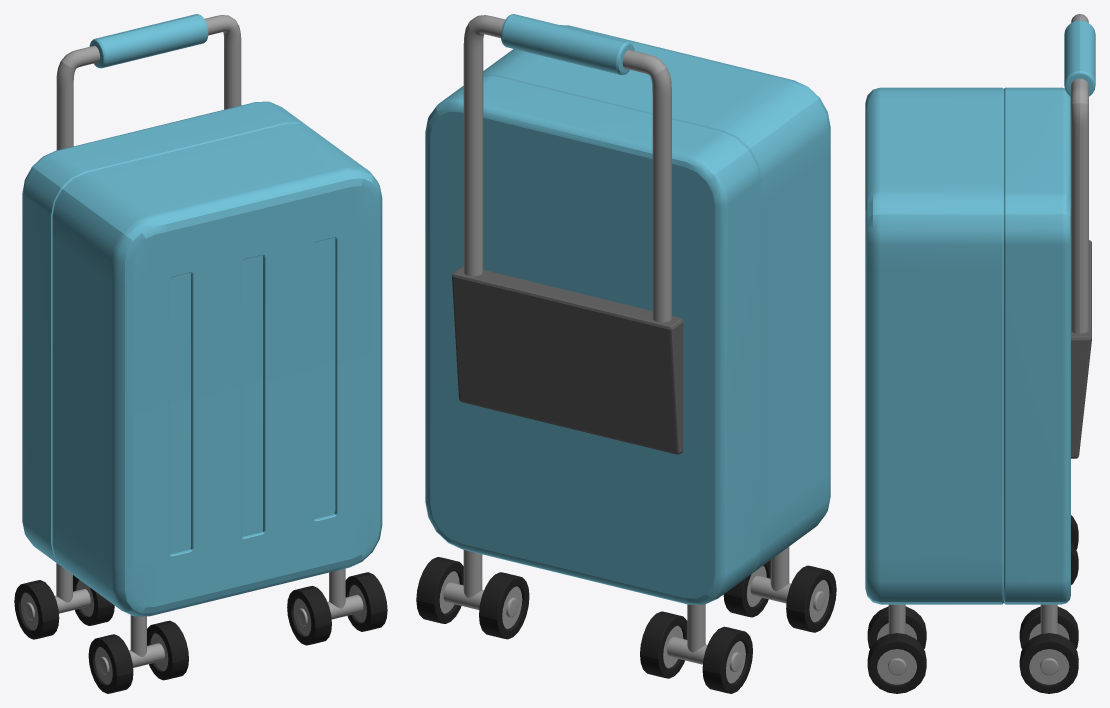
The picture shows the model from 3 angles, left to right: view 1: azimuth 30°, elevation 25°; view 2: azimuth 150°, elevation 25°; view 3: azimuth 270°, elevation 25°; orthographic projection. The views are drawn at different scales.
Parts seen in each view (by area): view 1: l2; view 2: l2; view 3: l2.
Boxes of the visible parts, box(x1,y1,x2,y2) form: l2: box(14, 14, 387, 693); l2: box(416, 14, 836, 693); l2: box(865, 14, 1095, 693).
Size of the model in its own units: 89.69 by 179 by 64.3.
1 material, 1 textured.
